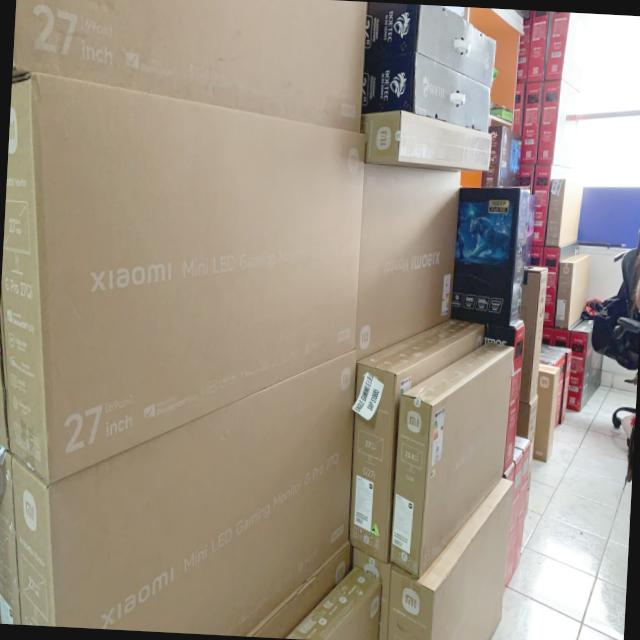caja-monitor: (1, 73, 370, 484), (10, 350, 359, 638), (15, 0, 369, 131), (352, 321, 485, 564), (393, 342, 512, 579), (386, 476, 513, 640), (357, 164, 460, 361), (364, 5, 499, 90), (452, 187, 531, 328), (358, 52, 492, 134), (361, 111, 493, 171), (536, 79, 586, 172), (567, 318, 604, 412), (542, 241, 579, 327), (544, 179, 585, 247), (554, 252, 590, 329), (533, 363, 560, 462), (520, 82, 543, 166), (532, 166, 552, 248), (527, 11, 550, 81), (513, 83, 524, 135), (519, 165, 534, 194)
